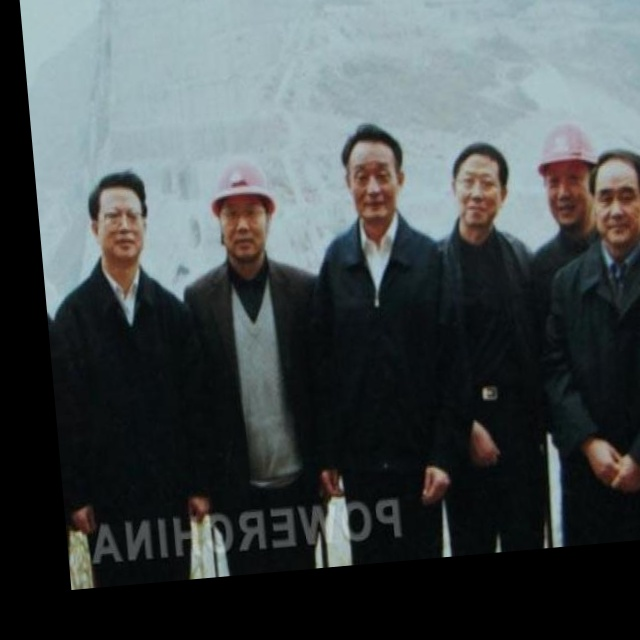Con_Casco: (206, 153, 281, 253)
Sin_Casco_Mascarrilla: (337, 120, 407, 218), (86, 166, 153, 266), (448, 137, 513, 234)
Sin_Chaleco: (182, 253, 332, 489), (315, 215, 455, 450)
